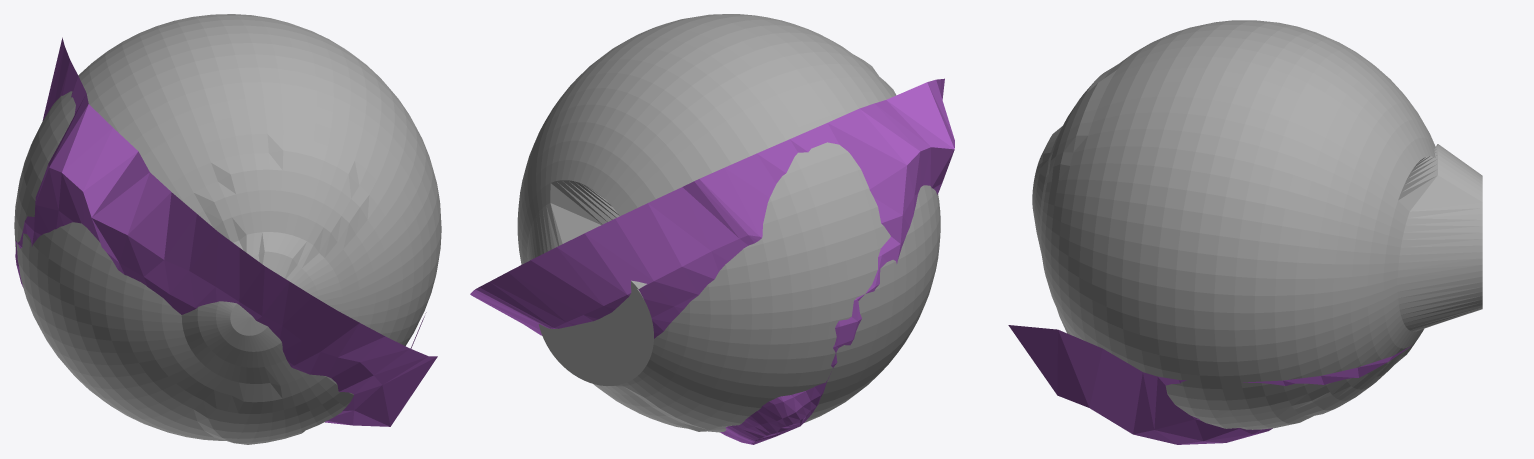
The model's file is G02_A0_ALIGNED_GT.glb.
The picture shows the model from 3 angles, left to right: view 1: azimuth 30°, elevation 25°; view 2: azimuth 150°, elevation 25°; view 3: azimuth 270°, elevation 25°; orthographic projection. The views are drawn at different scales.
Visible parts, largest first — view 1: Independent_GT, A0; view 2: Independent_GT, A0; view 3: Independent_GT, A0.
Part boxes in pixels (x1,y1,x2,y2): Independent_GT: (14,14,441,444); A0: (15,37,437,426); Independent_GT: (517,14,940,432); A0: (470,78,954,444); Independent_GT: (1032,20,1482,429); A0: (1008,325,1410,444).
Bounding box in the file's own units: 0.004 × 0.004 × 0.00521.
